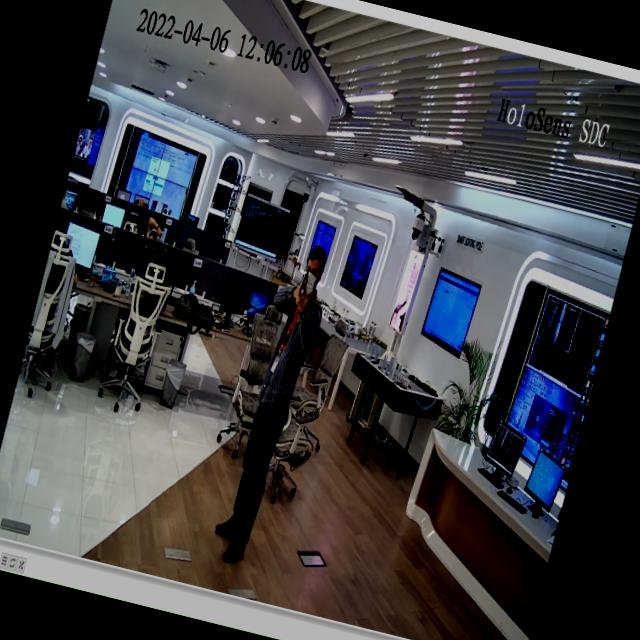long weapon: (292, 258, 315, 307)
